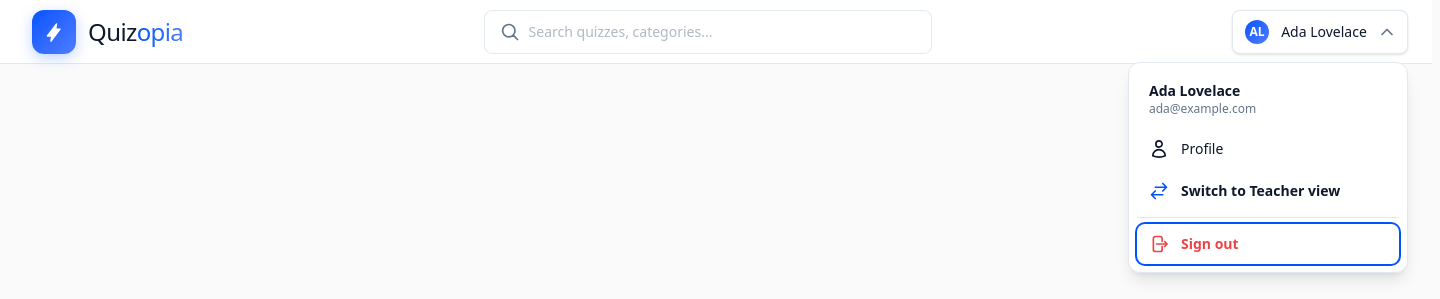
it: Header profile menu › keeps roving keyboard focus and Escape return with the active profile action
Earlier steps of the test are not shown.
Press ArrowDown in the menu item "Sign out", box [1137, 224, 1399, 264]
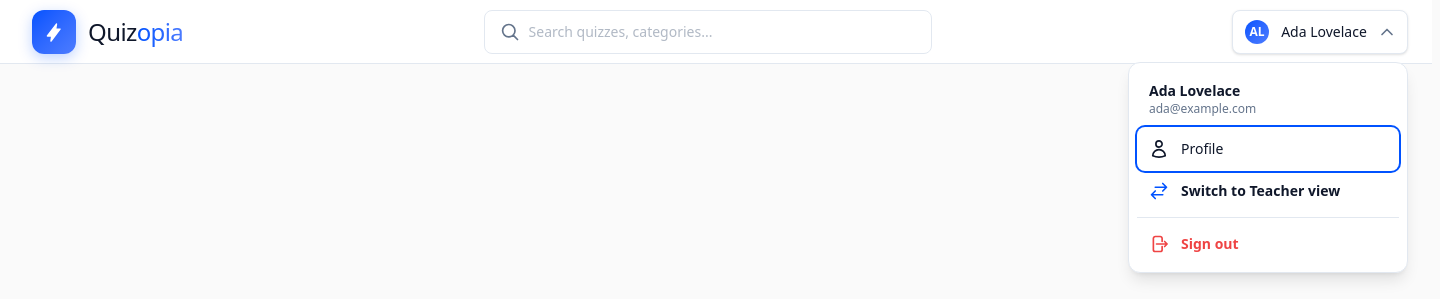
Press ArrowUp in the menu item "Profile", box [1137, 126, 1399, 170]
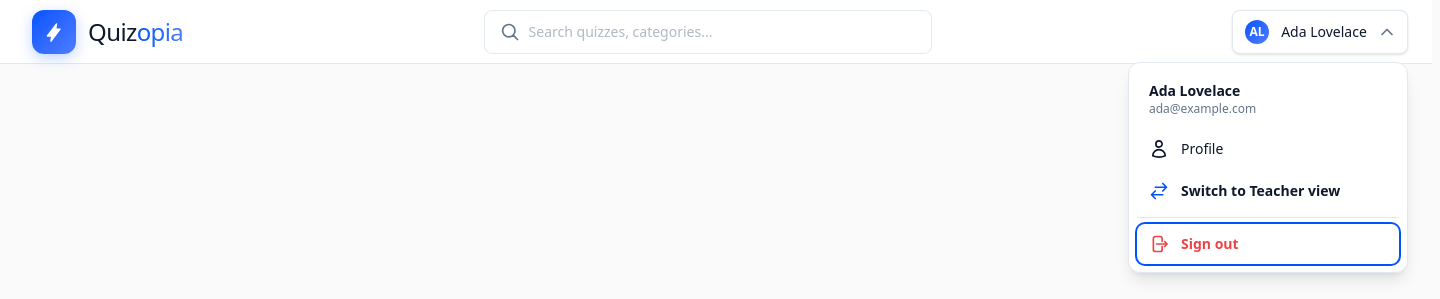
Press Home in the menu item "Sign out", box [1137, 224, 1399, 264]
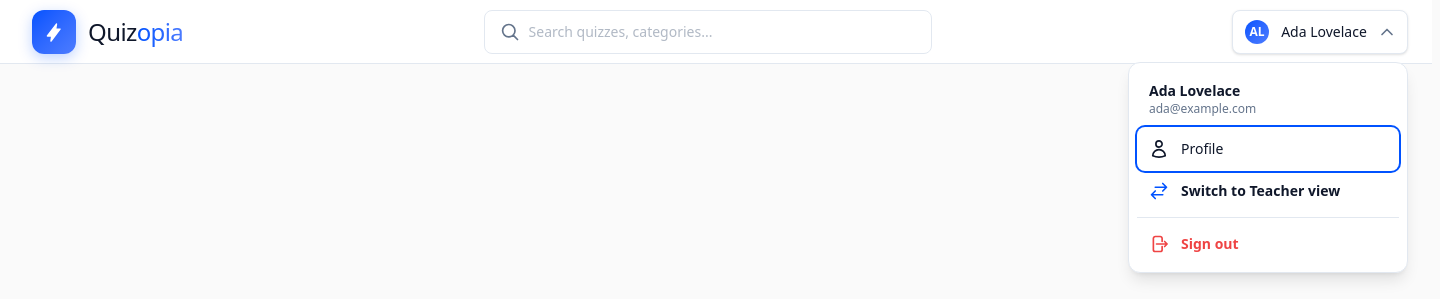
Press Escape in the menu item "Profile", box [1137, 126, 1399, 170]
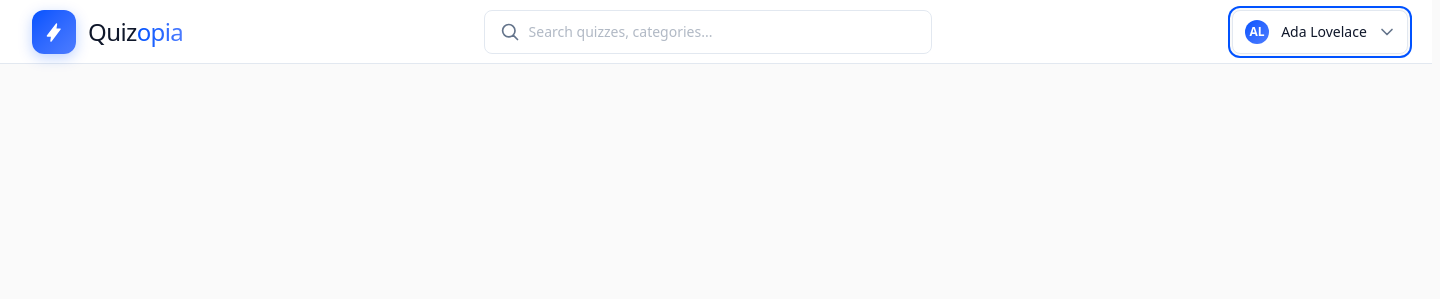
Now the menu is gone
Click the button with aria-label "Account" at (1320, 32), box [1232, 10, 1408, 54]
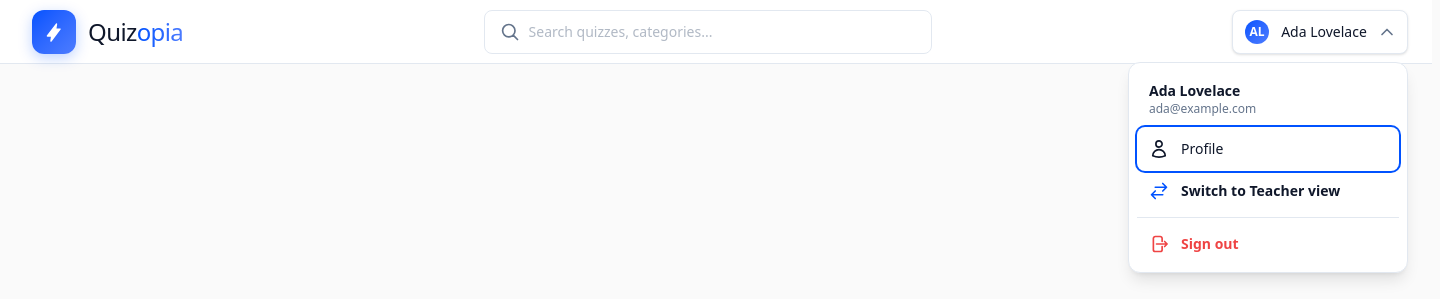
Click the menu item "Profile" at (1202, 148), box [1137, 126, 1399, 170]
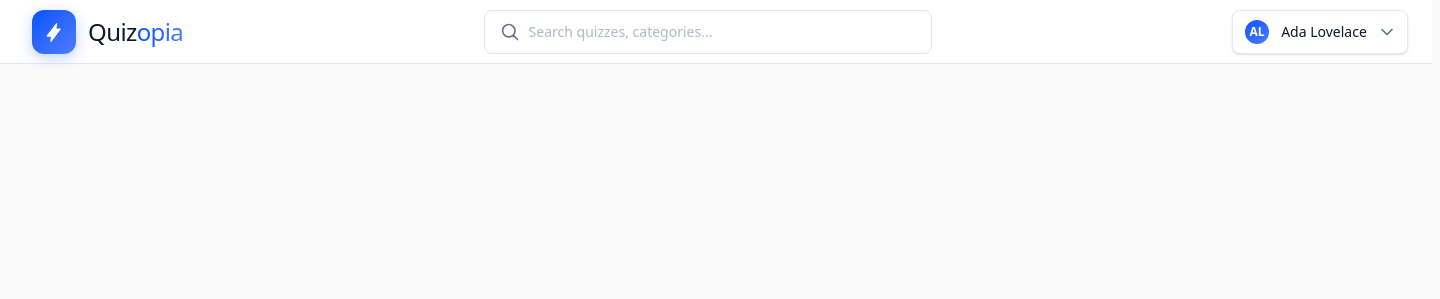
Now the menu is gone
